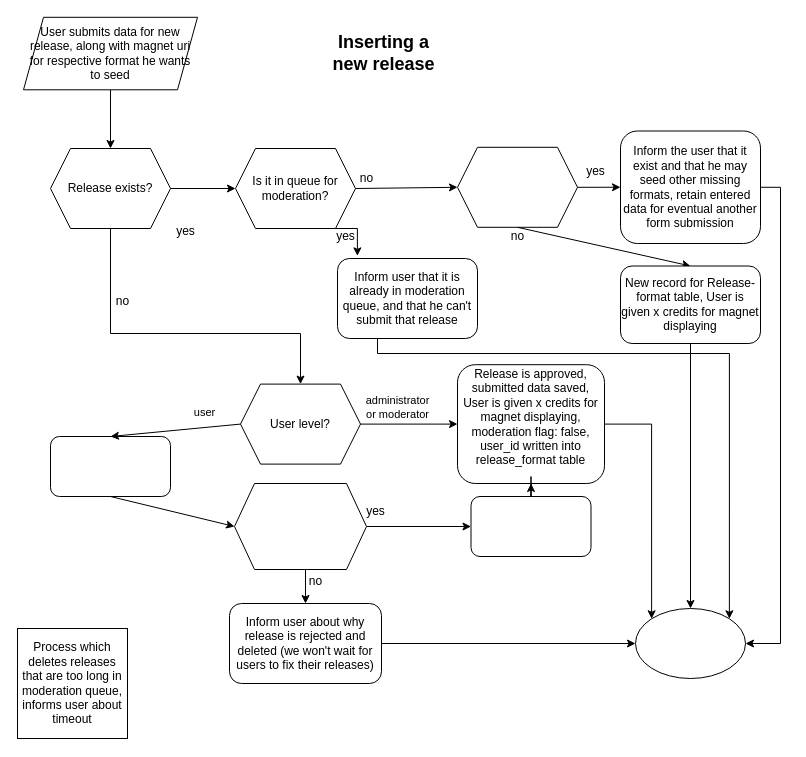
Image size: 806x757. Some labels were removed from this diagram. The box of each missing label's shape, as (x1, y1, x2, y2) in pixels:
End: (634, 608, 746, 678)
Message to user about approval and what is fixed: (470, 496, 591, 556)
Moderator checking, fixed by moderator?: (234, 482, 366, 570)
Release is queued for moderation flag: true: (50, 436, 170, 496)
Submitted format already seeded?: (456, 146, 578, 227)
